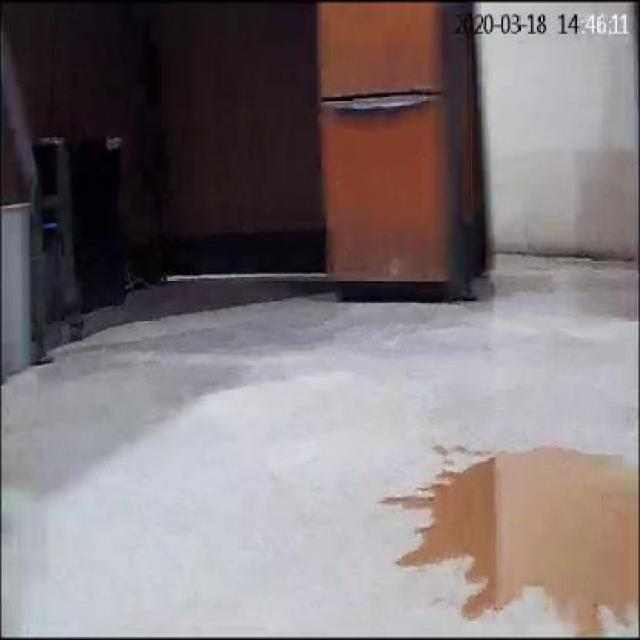spill: (368, 446, 638, 632)
